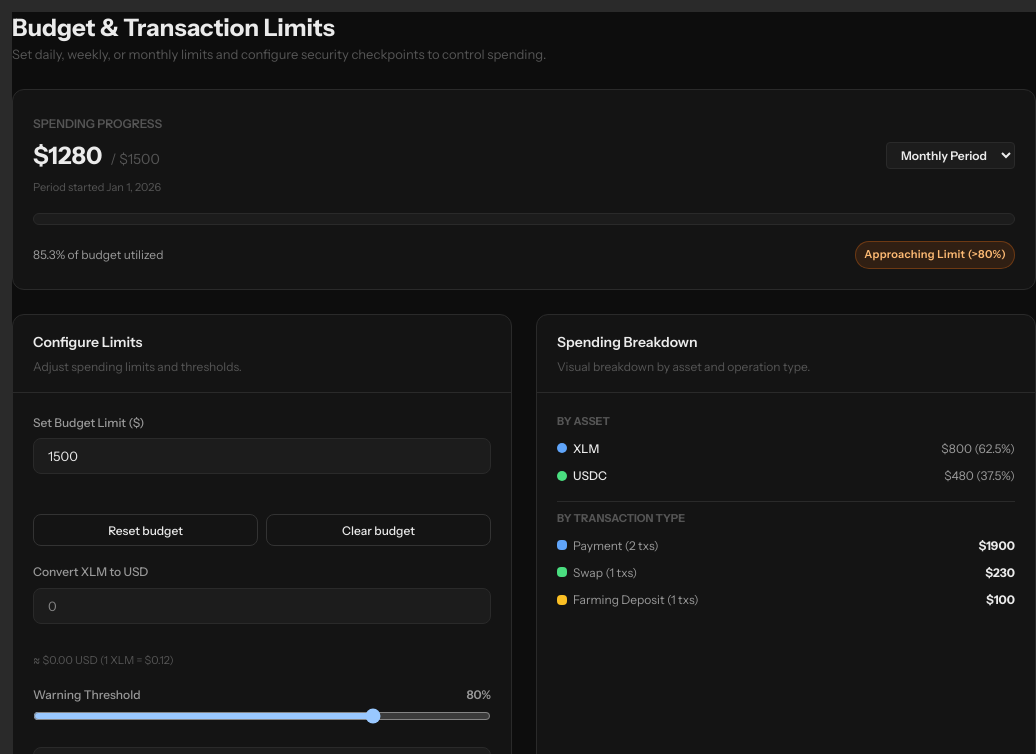
BudgetScreen › blocks negative budget limits with an inline error
Replace the text in the number field labelled "Set Budget Limit ($)" with "-500" at (262, 456), box [33,438,491,474]
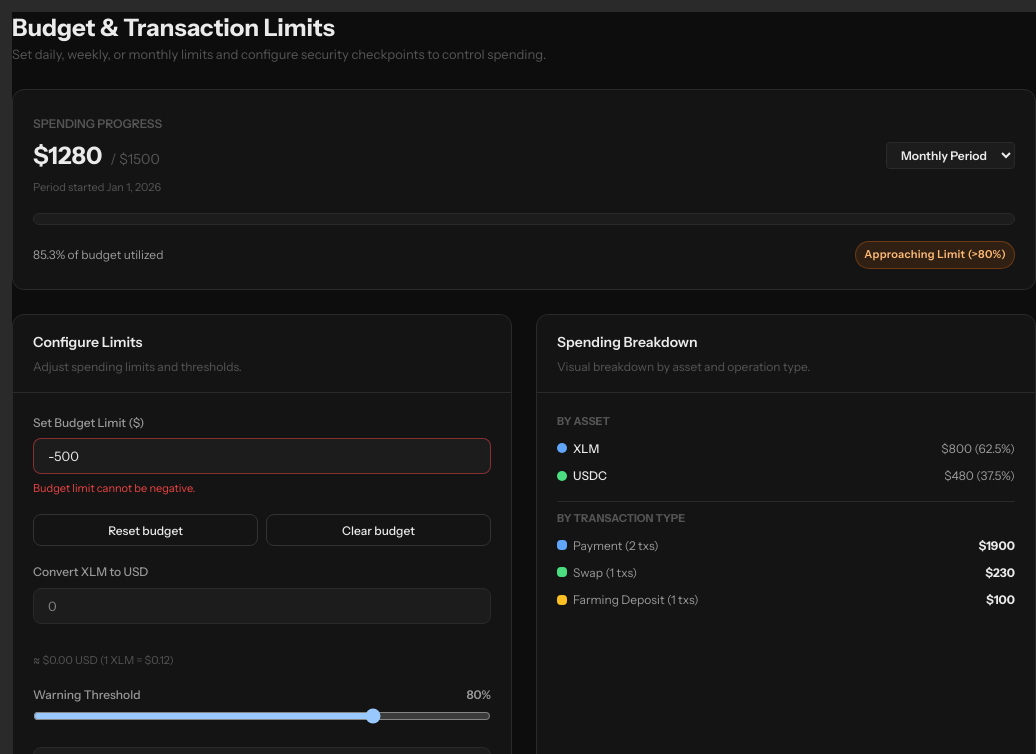
Check: the text "85.3% of budget utilized" is shown, box [33,245,163,264]
Check: the text "Budget limit cannot be negative." is shown, box [33,481,195,495]
Replace the text in the number field labelled "Set Budget Limit ($)" with "0" at (262, 456), box [33,438,491,474]
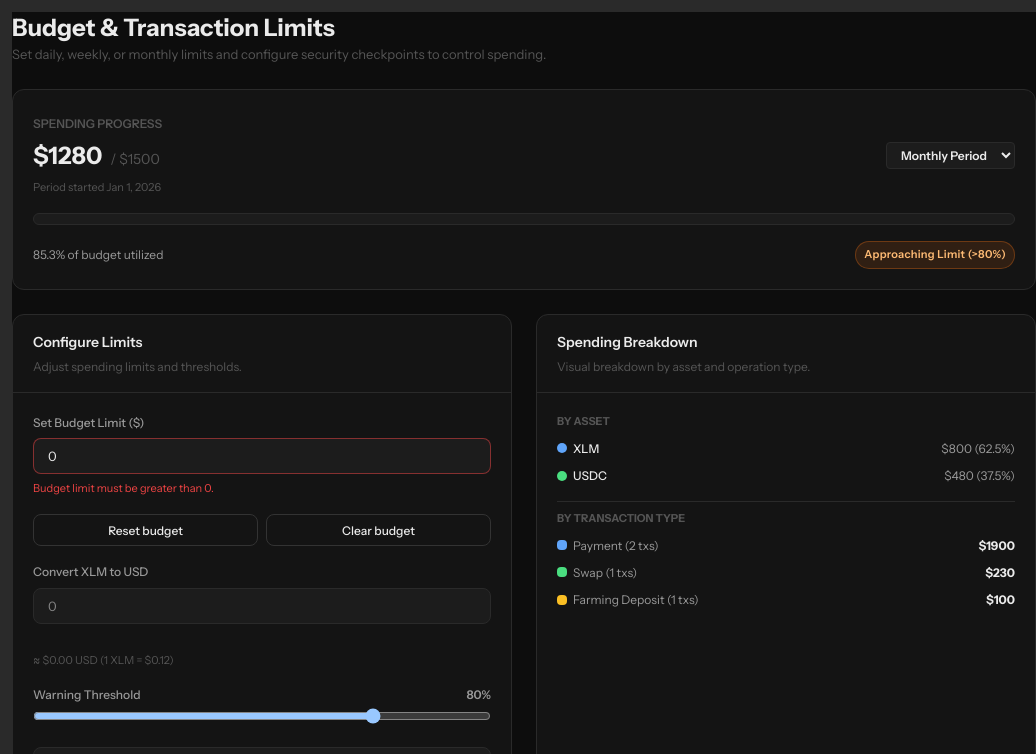
Check: the text "Budget limit must be greater than 0." is shown, box [33,481,214,495]
Replace the text in the number field labelled "Set Budget Limit ($)" with "2000" at (262, 456), box [33,438,491,474]
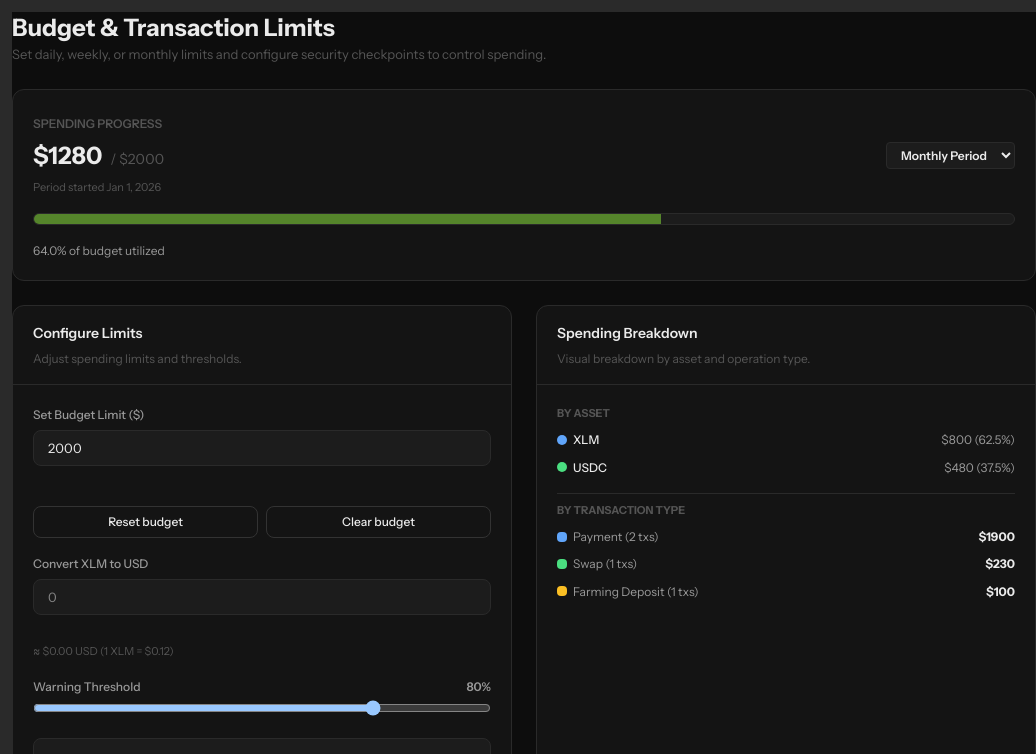
Check: the text "Budget limit must be greater than 0." is gone
Check: the text "64.0% of budget utilized" is shown, box [33,241,165,260]
